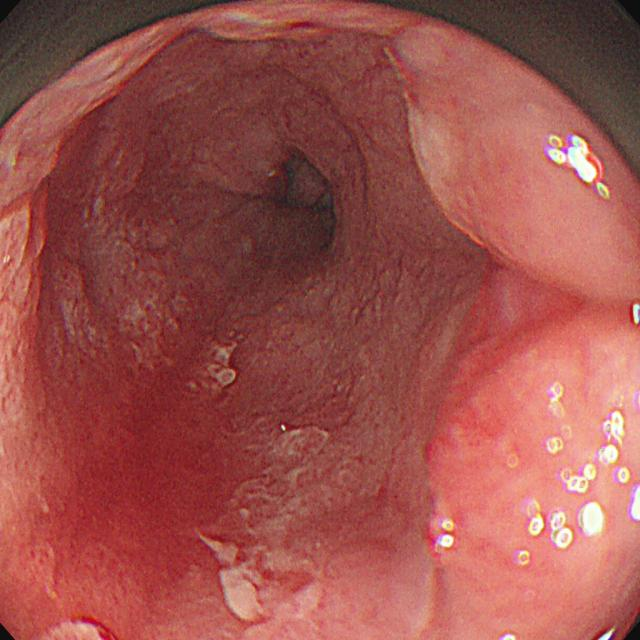A: (409, 305, 639, 640), (387, 24, 640, 308), (255, 281, 401, 509)
C: (40, 278, 244, 612)
E: (260, 146, 350, 253)
U: (546, 380, 640, 550), (545, 126, 611, 199), (519, 501, 544, 567), (437, 515, 459, 553)
